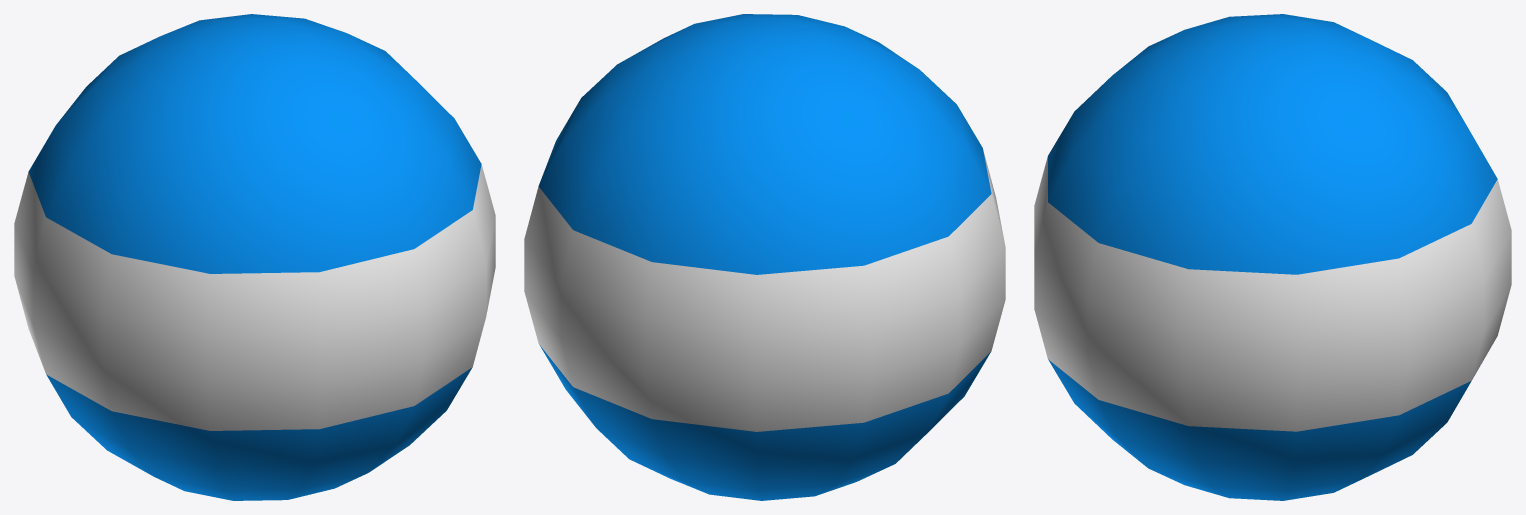
File: D_Ball12_04.fbx
The picture shows the model from 3 angles, left to right: view 1: azimuth 30°, elevation 25°; view 2: azimuth 150°, elevation 25°; view 3: azimuth 270°, elevation 25°; orthographic projection.
Visible parts, largest first — view 1: D_Ball12_04; view 2: D_Ball12_04; view 3: D_Ball12_04.
Boxes of the visible parts, x1,y1,x2,y2 form: D_Ball12_04: (14, 14, 495, 500); D_Ball12_04: (524, 14, 1005, 500); D_Ball12_04: (1034, 14, 1511, 500).
Size of the model in its own units: 0.9798 by 0.9943 by 0.9727.
